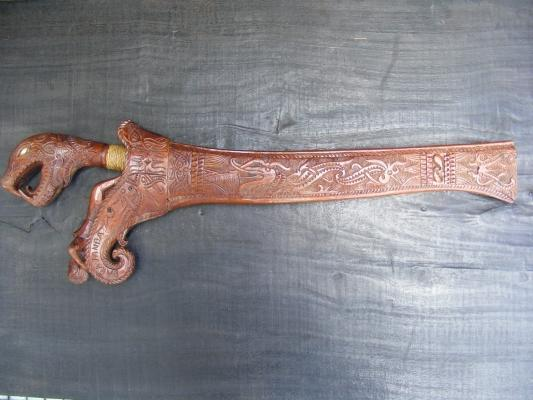espada: (3, 77, 520, 271)
